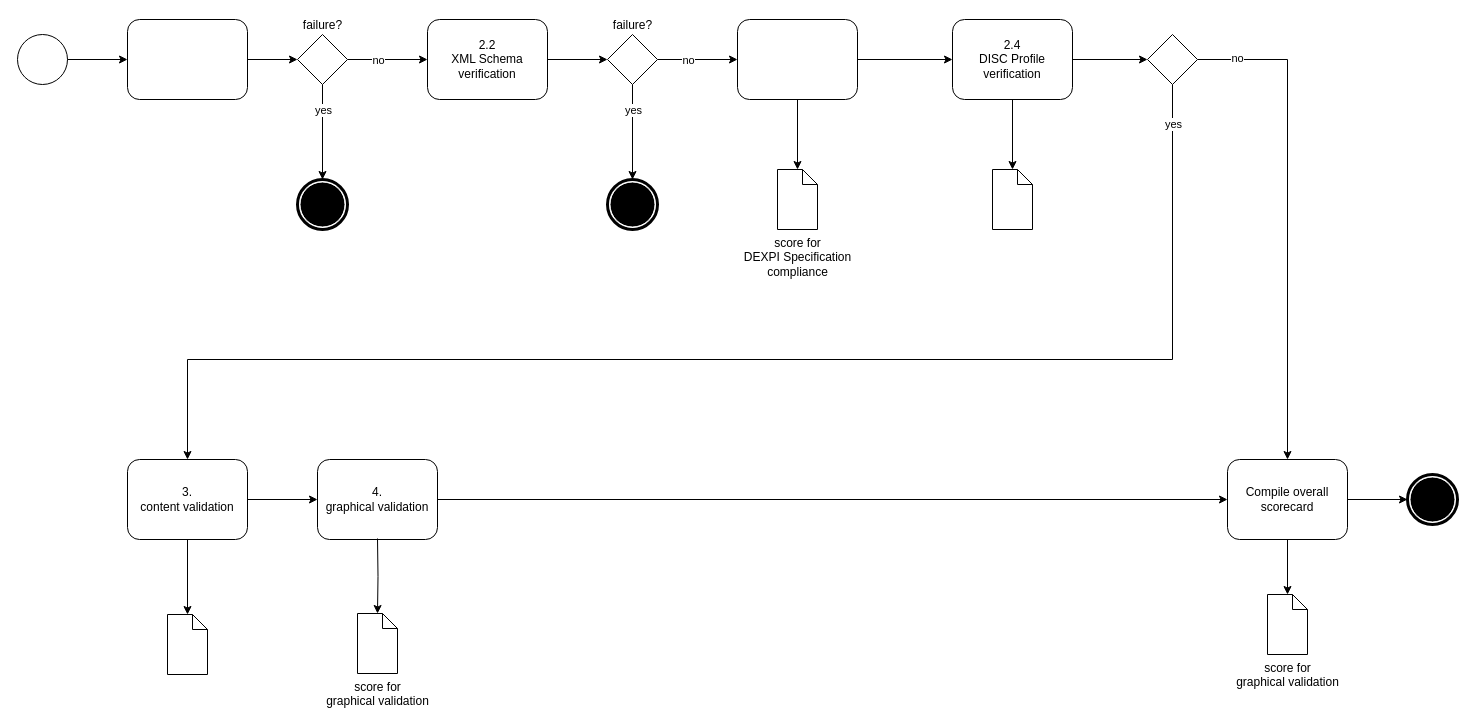
This 1475x727 diagram has some shape labels left out. Here are the shapes that lost their labels. From the top down, the box of each, then its label:
(126, 18, 248, 100): 2.1 XML verification
(736, 18, 858, 100): 2.3 DEXPI Specification verification
(1146, 34, 1198, 84): blueprint available?
(992, 168, 1032, 230): score for DISC Profile compliance
(166, 614, 208, 674): score for content compliance
